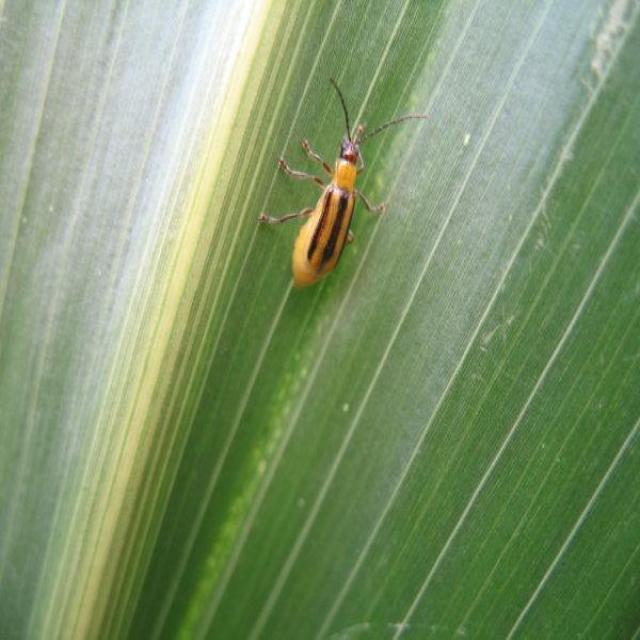trips: (260, 82, 430, 287)
